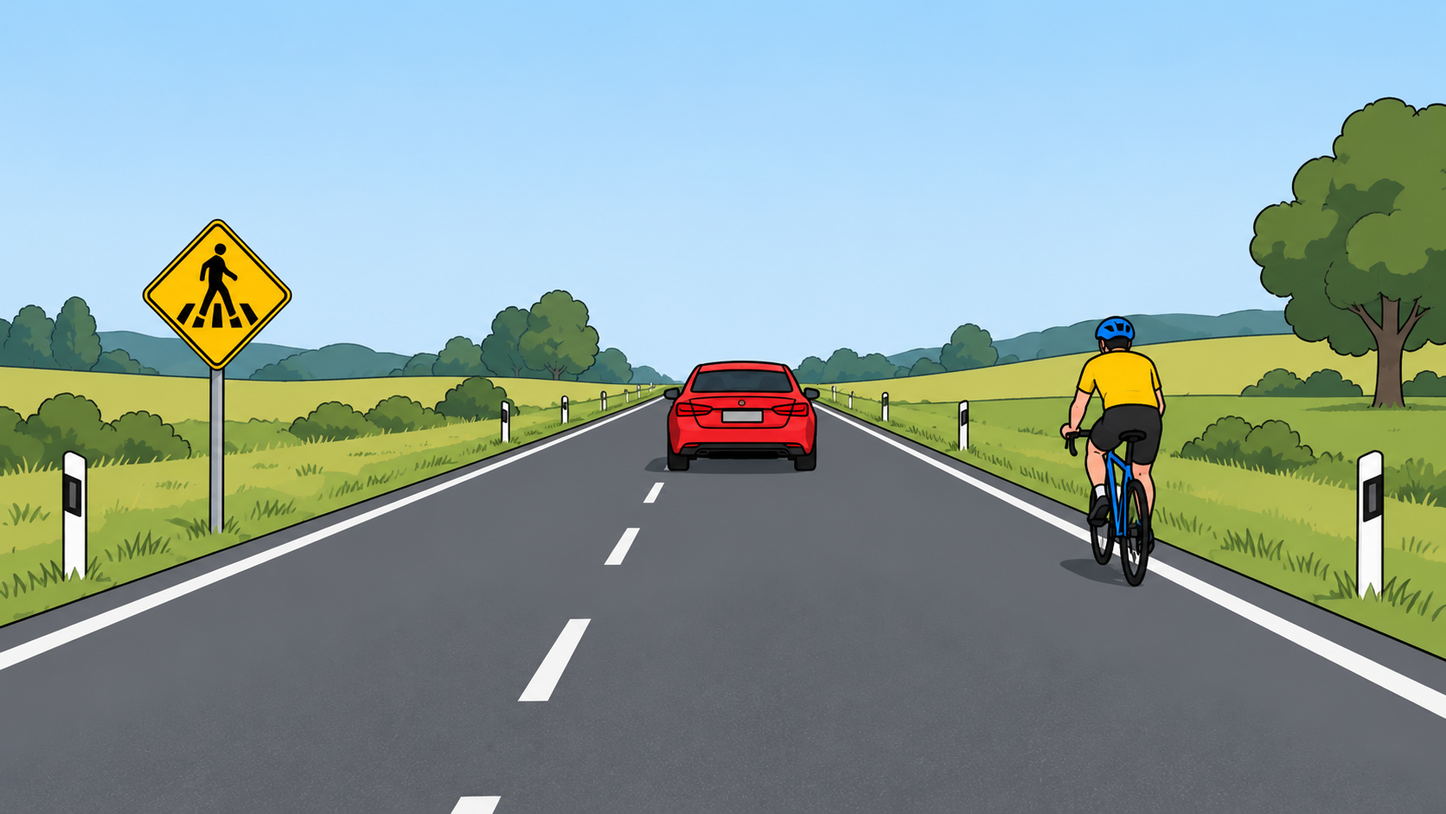bicycle: (1053, 429, 1178, 588)
car: (666, 358, 828, 476)
crossing_warning_sign: (142, 215, 294, 372)
person: (1055, 315, 1174, 541)
